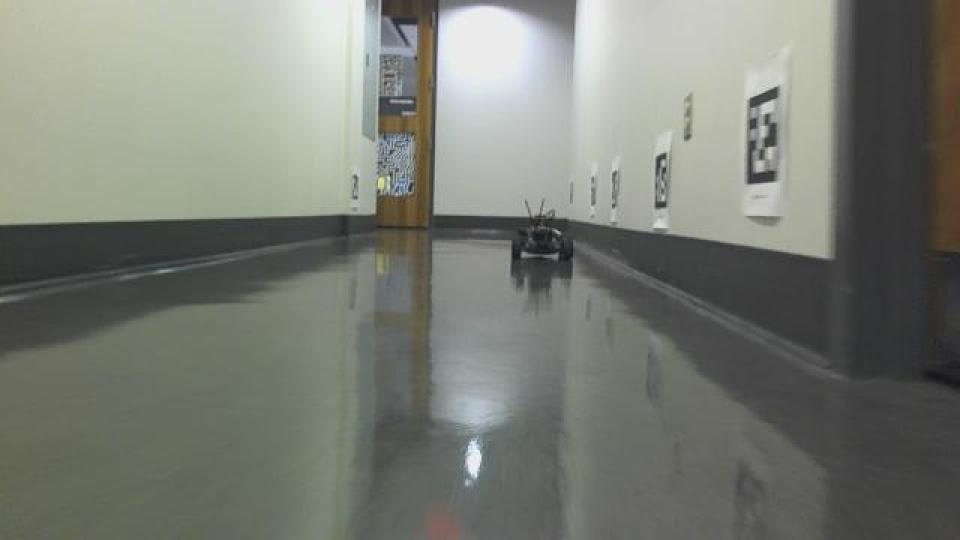car: (507, 195, 576, 267)
